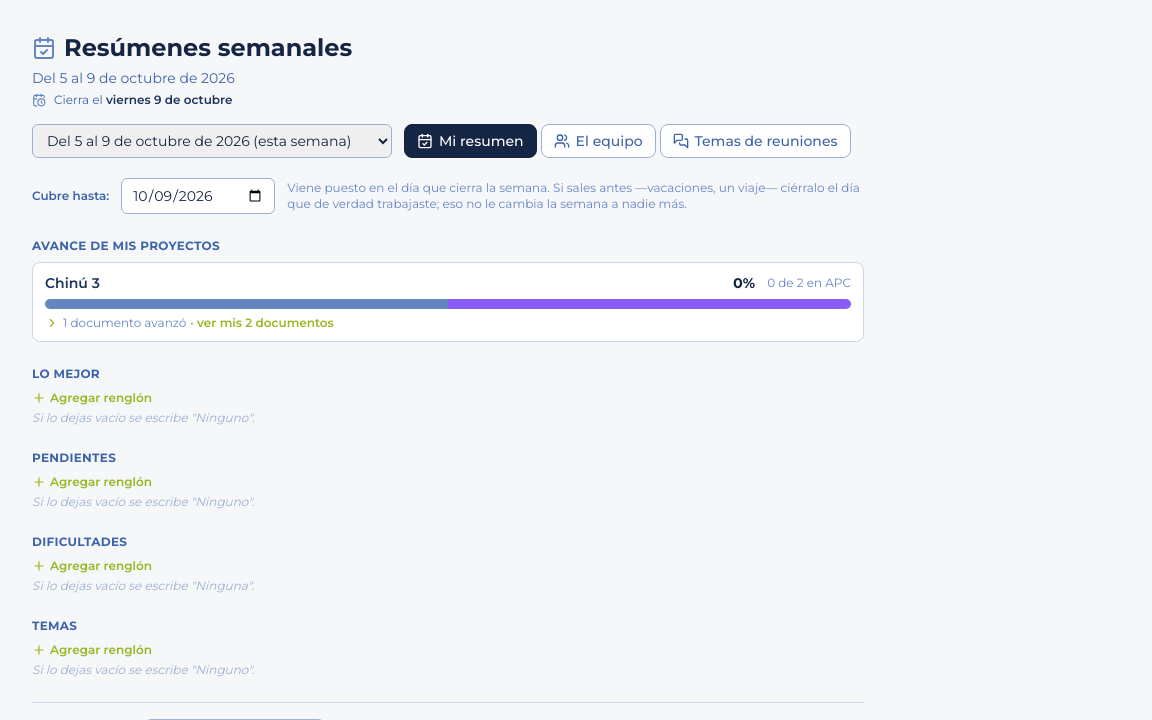
Test: mi resumen › con la foto de la semana pasada dice qué se movió y cuál fue
Click the text "1 documento avanzó". click: click(125, 323)
box: x1=63 y1=315 x2=186 y2=331
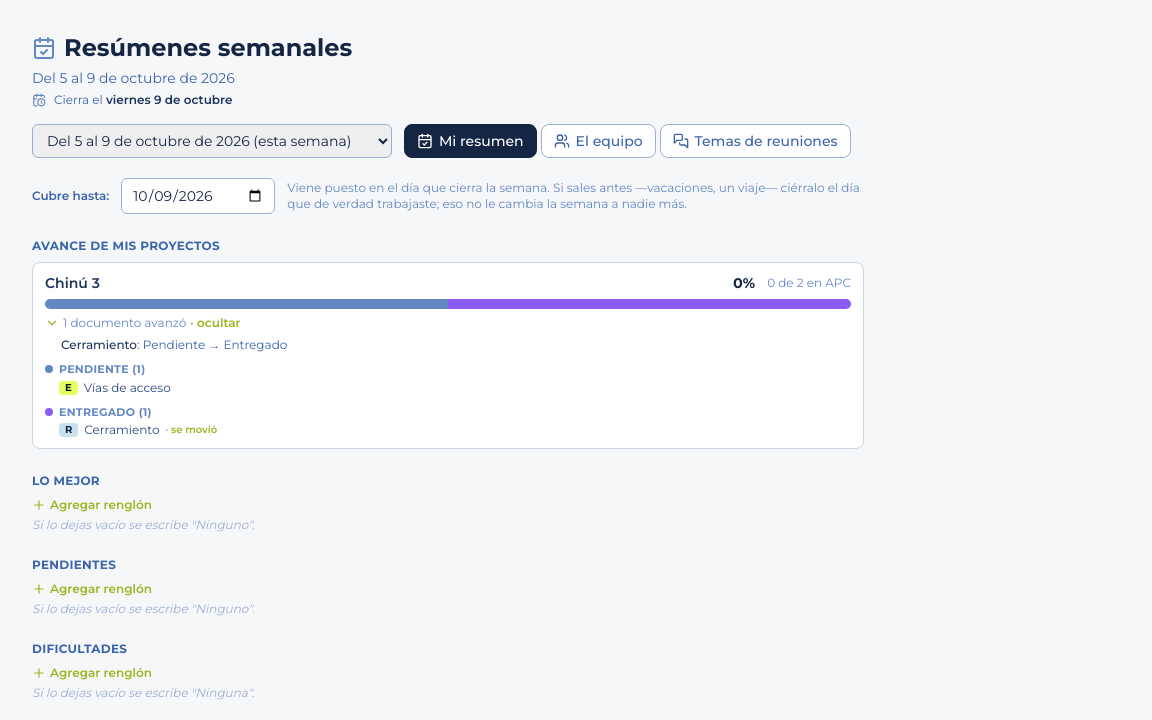
Now the list item "Cerramiento: Pendiente → Entregado" is shown, box x1=61 y1=337 x2=287 y2=352
Now the text "Cerramiento" is shown 2 times, box x1=61 y1=337 x2=137 y2=352; x1=84 y1=422 x2=160 y2=438
